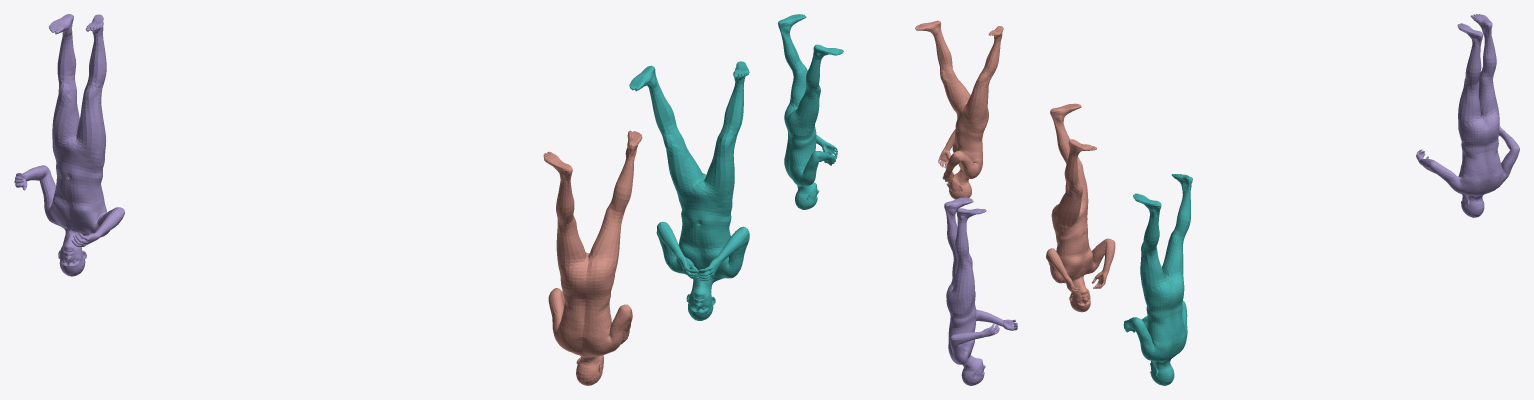
The model's file is all_people_native_world.glb.
The picture shows the model from 3 angles, left to right: view 1: azimuth 30°, elevation 25°; view 2: azimuth 150°, elevation 25°; view 3: azimuth 270°, elevation 25°; orthographic projection. The views are drawn at different scales.
Visible parts, largest first — view 1: persistent_id_1_slot_0, persistent_id_2_slot_1, persistent_id_0_slot_2; view 2: persistent_id_1_slot_0, persistent_id_0_slot_2, persistent_id_2_slot_1; view 3: persistent_id_2_slot_1, persistent_id_1_slot_0, persistent_id_0_slot_2.
Boxes of the visible parts, <box> form: persistent_id_1_slot_0: <box>629,61,749,320</box>; persistent_id_2_slot_1: <box>14,14,124,276</box>; persistent_id_0_slot_2: <box>543,130,642,385</box>; persistent_id_1_slot_0: <box>778,14,843,209</box>; persistent_id_0_slot_2: <box>915,20,1003,199</box>; persistent_id_2_slot_1: <box>944,197,1017,385</box>; persistent_id_2_slot_1: <box>1416,14,1519,217</box>; persistent_id_1_slot_0: <box>1123,174,1192,385</box>; persistent_id_0_slot_2: <box>1046,103,1115,312</box>.
Bounding box in the file's own units: 3.84 × 1.81 × 3.88.
